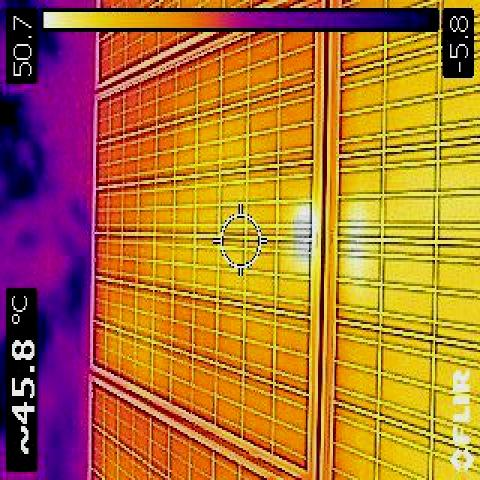fault: (293, 215, 312, 262)
